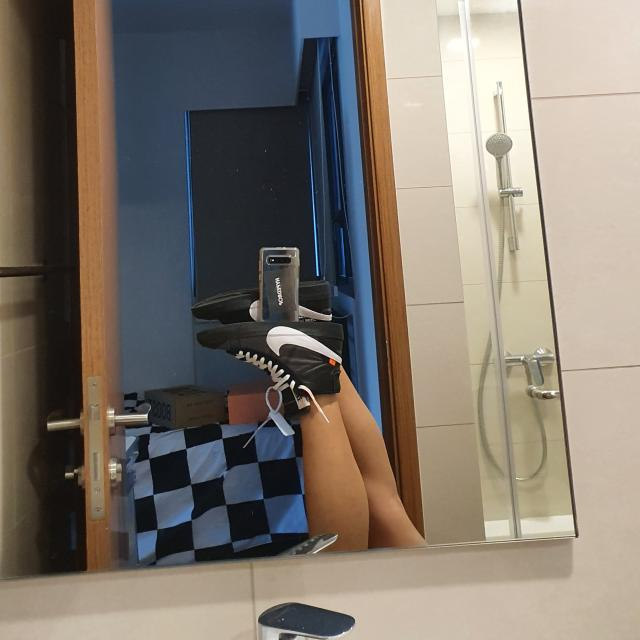shoe: (196, 323, 350, 415), (194, 278, 336, 322)
